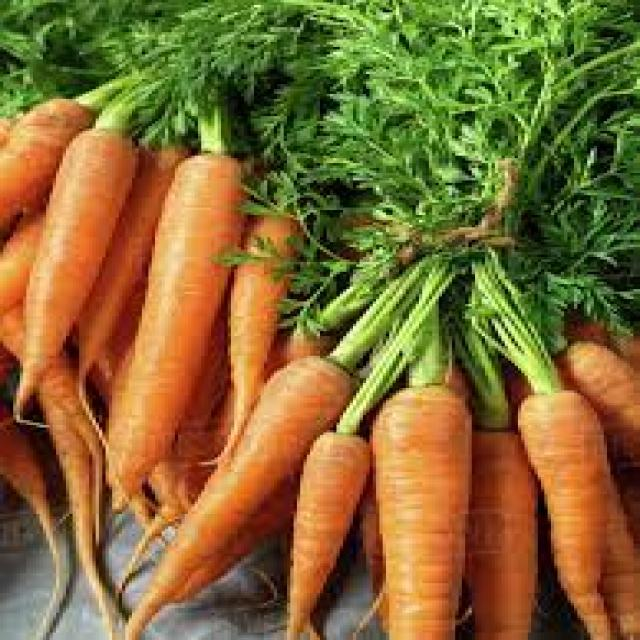Carrot: (376, 385, 485, 640)
